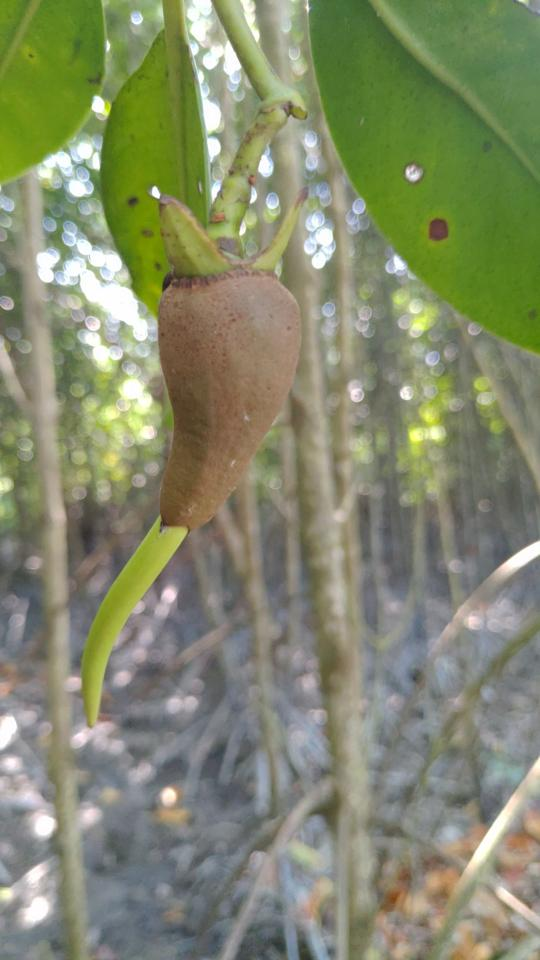mentah: (65, 210, 316, 737)
